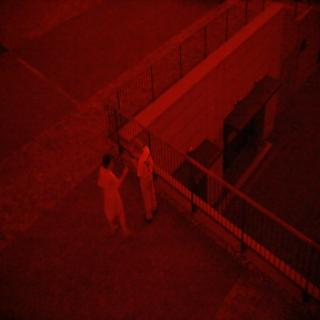person: (93, 143, 128, 236), (133, 140, 169, 223)
